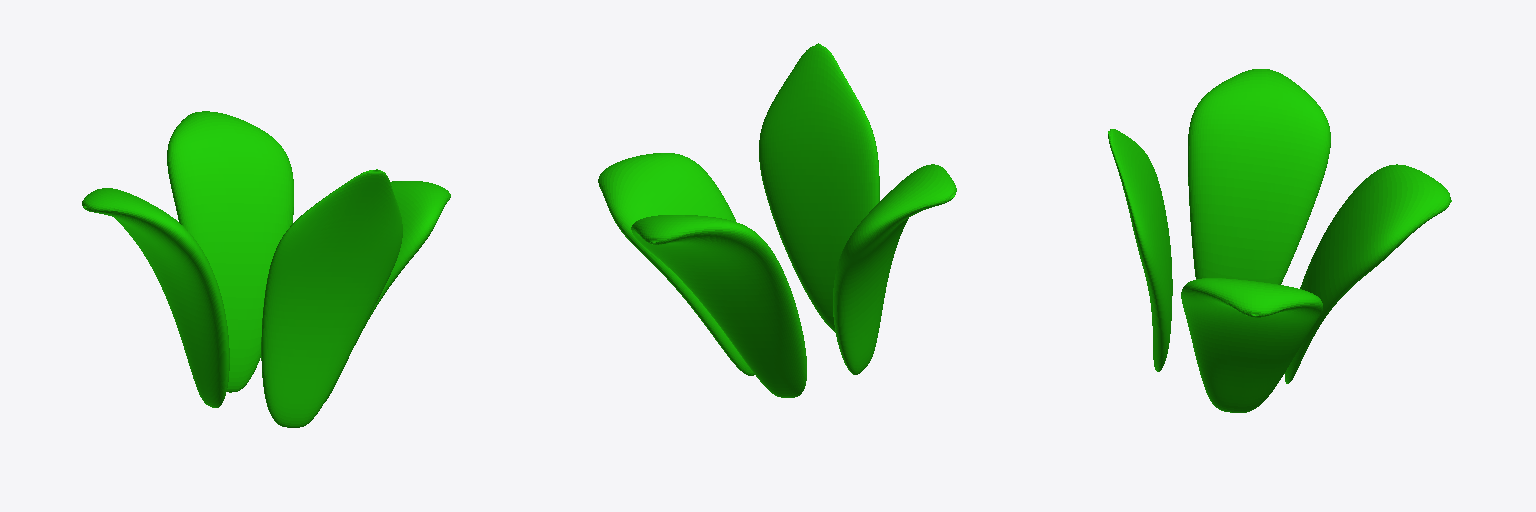
File: carrot_leaf.obj
3 views of the same model, side by side, from view 1: azimuth 30°, elevation 25°; view 2: azimuth 150°, elevation 25°; view 3: azimuth 270°, elevation 25° (orthographic).
Parts seen in each view (by area): view 1: Cube.003, Cube.004, Cube.002, Cube.001; view 2: Cube.003, Cube.004, Cube.002, Cube.001; view 3: Cube.002, Cube.001, Cube.004, Cube.003.
Boxes of the visible parts, x1=… form: Cube.003: x1=261, y1=169, x2=402, y2=427; Cube.004: x1=167, y1=111, x2=293, y2=392; Cube.002: x1=82, y1=188, x2=229, y2=407; Cube.001: x1=325, y1=181, x2=450, y2=401; Cube.003: x1=759, y1=43, x2=879, y2=332; Cube.004: x1=631, y1=215, x2=806, y2=397; Cube.002: x1=833, y1=164, x2=956, y2=374; Cube.001: x1=598, y1=153, x2=754, y2=375; Cube.002: x1=1188, y1=69, x2=1330, y2=284; Cube.001: x1=1181, y1=278, x2=1322, y2=412; Cube.004: x1=1284, y1=164, x2=1451, y2=383; Cube.003: x1=1108, y1=129, x2=1172, y2=371.
Bounding box in the file's own units: 2.3 × 1.73 × 1.91.